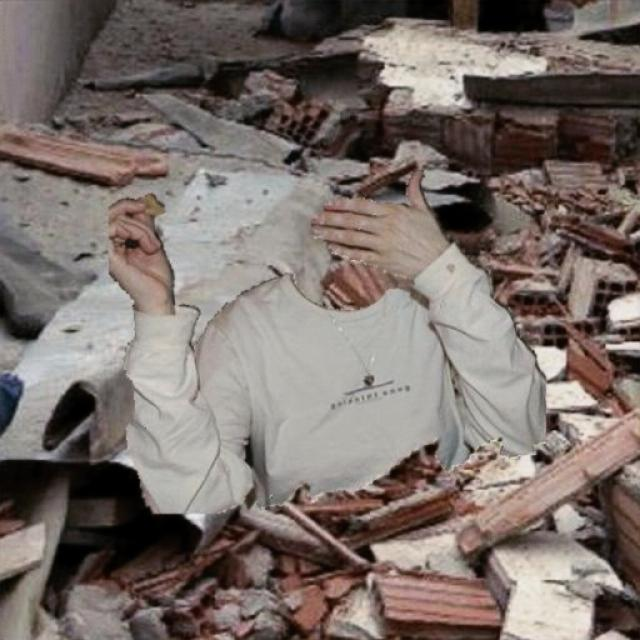Person in Rubble: (109, 170, 545, 512)
